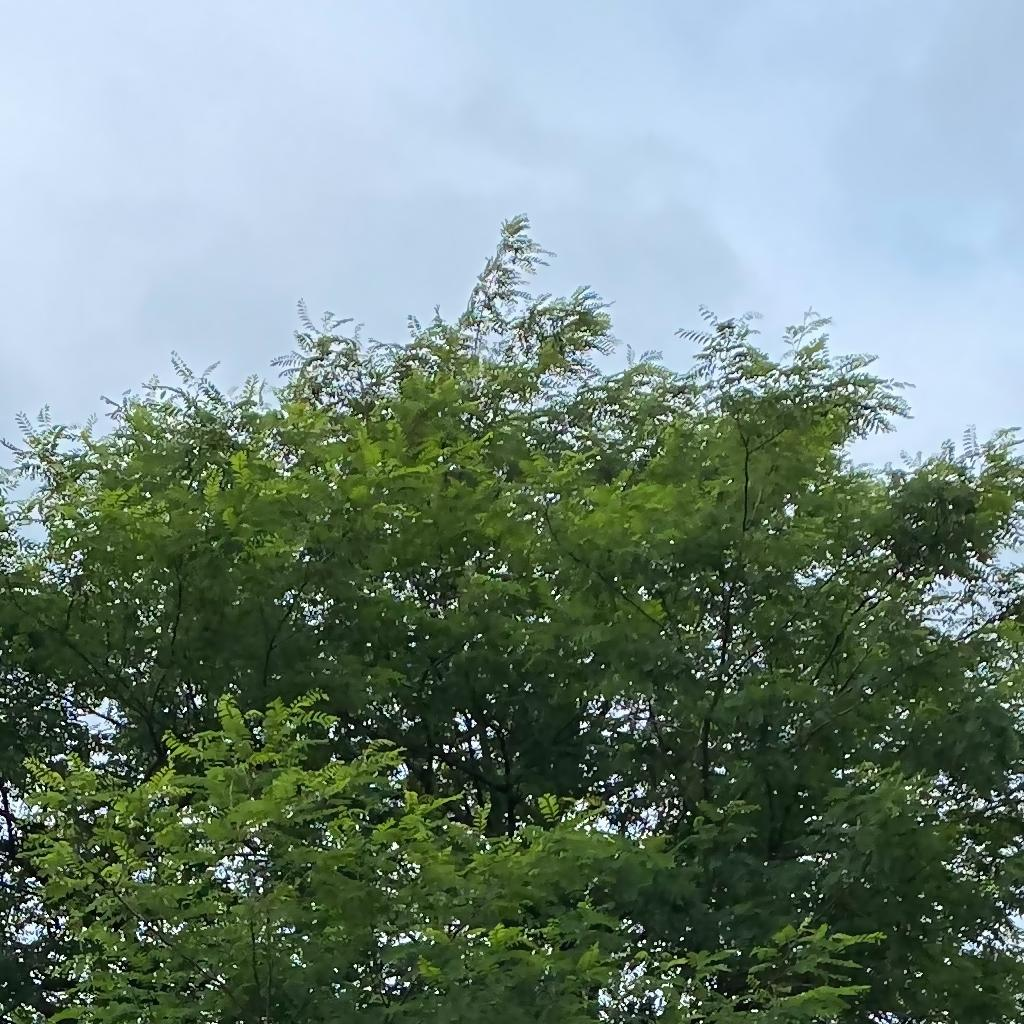tree: (1, 210, 1023, 1023)
